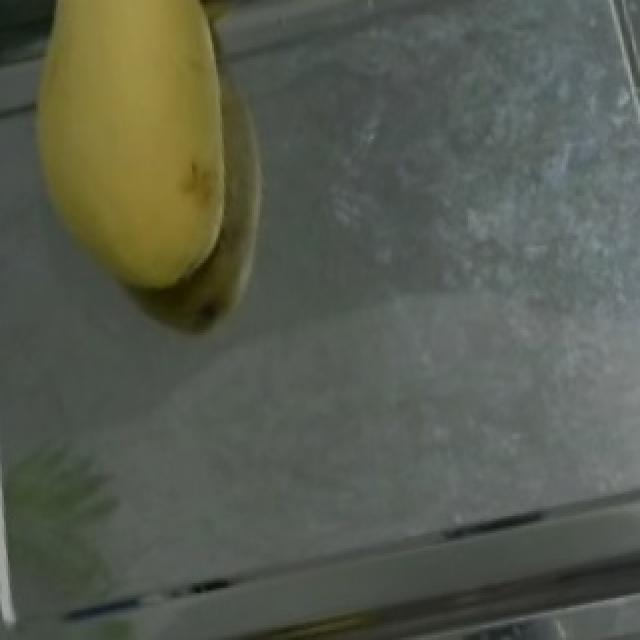fruit: (4, 0, 298, 318)
